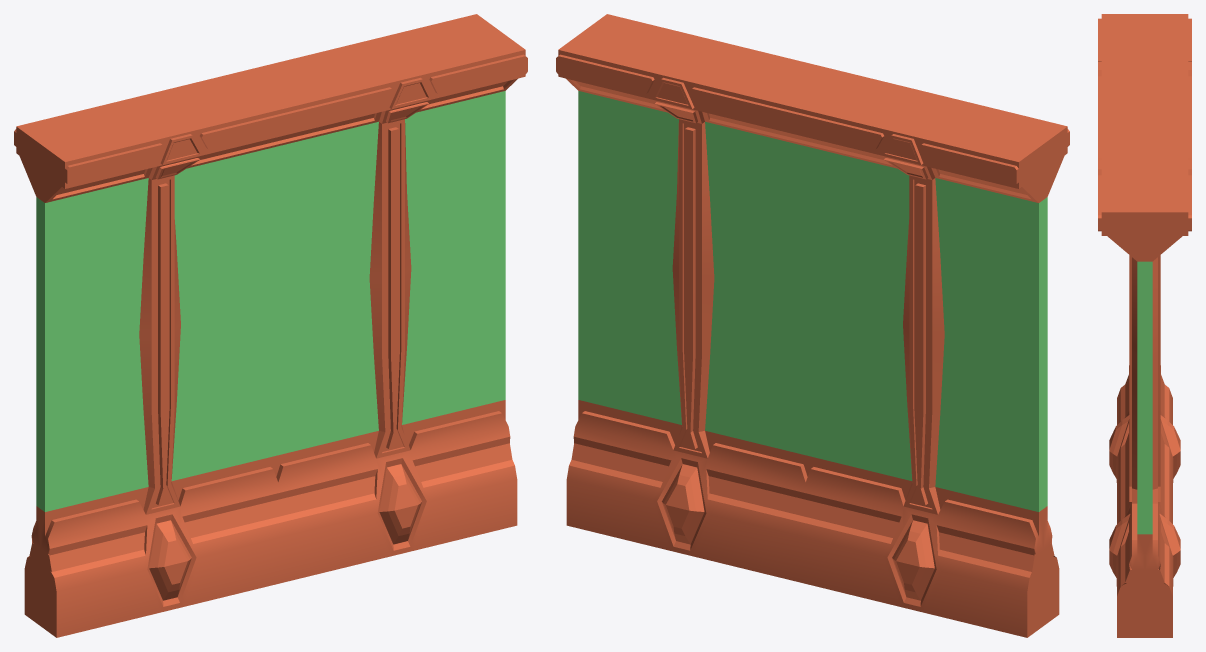
File: MurVitrée.fbx
3 views of the same model, side by side, from view 1: azimuth 30°, elevation 25°; view 2: azimuth 150°, elevation 25°; view 3: azimuth 270°, elevation 25° (orthographic). The views are drawn at different scales.
Parts seen in each view (by area): view 1: Mur_Vitrée; view 2: Mur_Vitrée; view 3: Mur_Vitrée.
Part boxes in pixels (bbox=[...]): Mur_Vitrée: bbox=[14, 14, 527, 637]; Mur_Vitrée: bbox=[556, 14, 1069, 637]; Mur_Vitrée: bbox=[1098, 14, 1191, 637].
Bounding box in the file's own units: 200 × 200 × 40.
